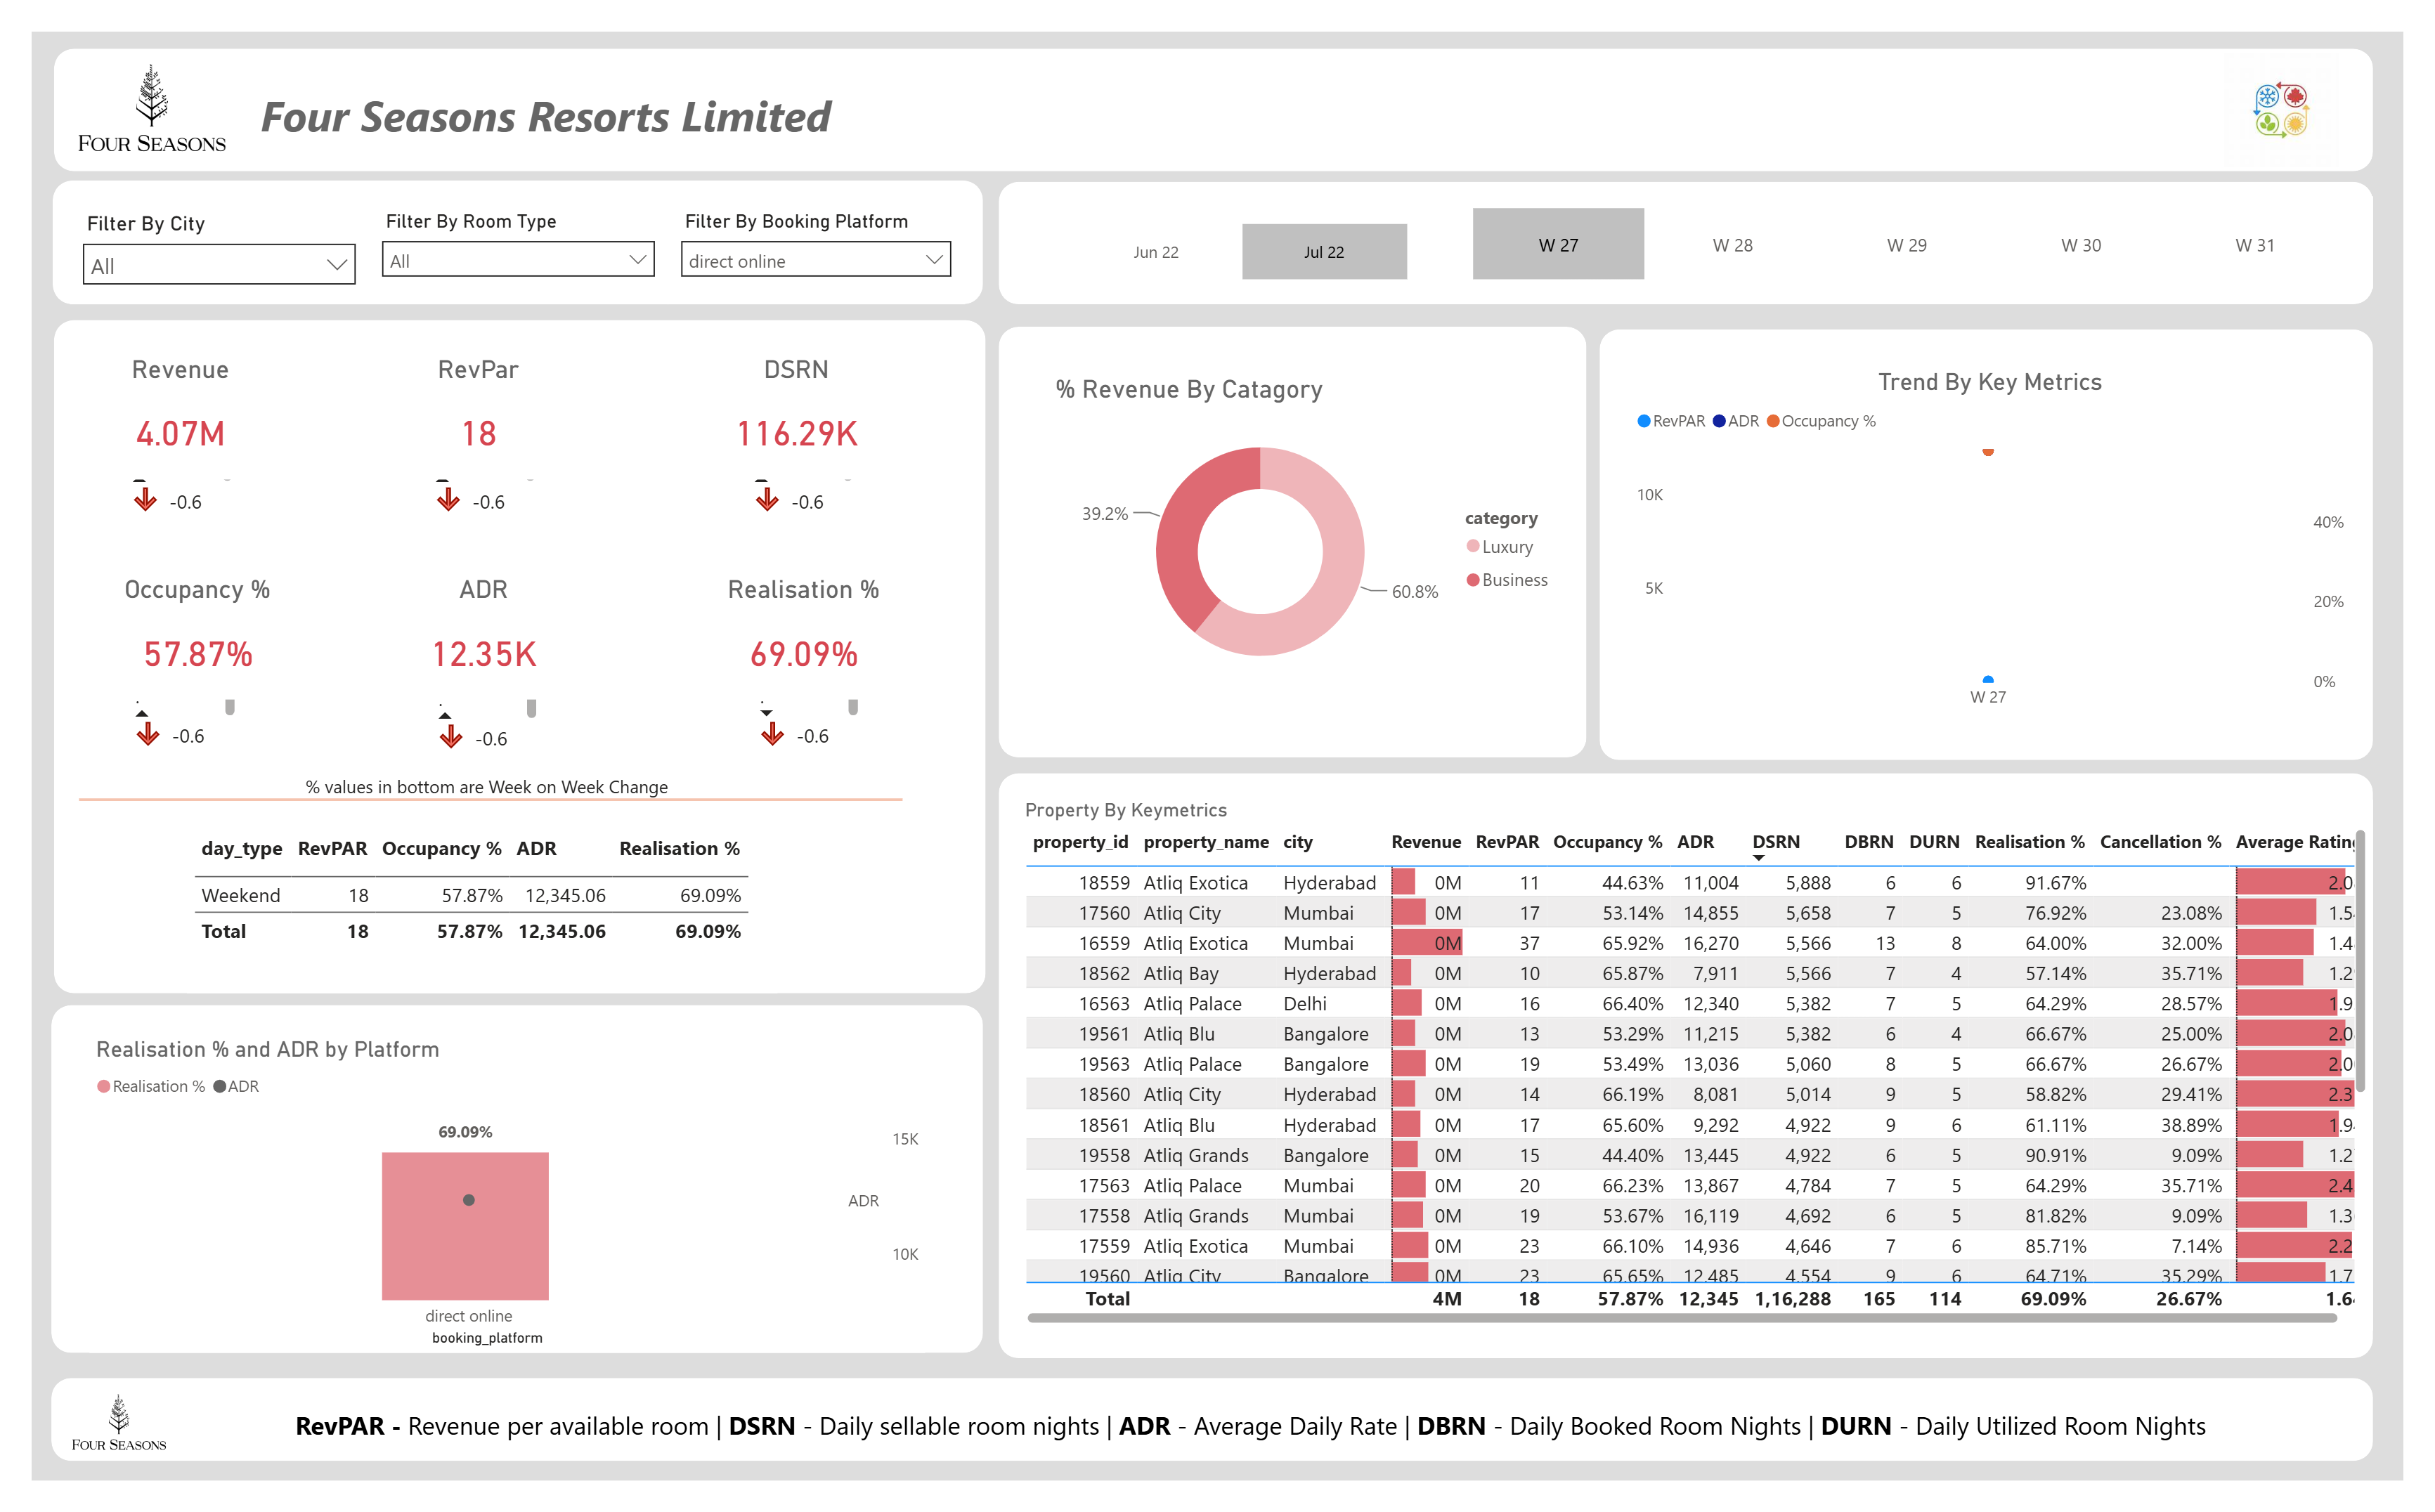

This screenshot's page, from the dashboard's own definition file:
{"tool":"powerbi","page":{"name":"Page 1","canvas":[1800,1100],"ordinal":0},"visuals":[{"type":"shape","box":[17.1,13.3,1759.9,93.1],"z":0},{"type":"tableEx","fields":{"Values":["key measures.Revenue WoW change %"]},"box":[541.6,490.4,91.2,58.9],"z":0,"group":"g3"},{"type":"tableEx","fields":{"Values":["key measures.Revenue WoW change %"]},"box":[298.4,492.3,91.2,58.9],"z":1000,"group":"g3"},{"type":"shape","box":[15.2,1022.5,1761.8,62.7],"z":1000},{"type":"tableEx","fields":{"Values":["key measures.Revenue WoW change %"]},"box":[68.4,490.4,91.2,58.9],"z":2000,"group":"g3"},{"type":"shape","box":[15.2,739.3,707,264.2],"z":2000},{"type":"tableEx","fields":{"Values":["key measures.Revenue WoW change %"]},"box":[537.8,311.7,91.2,58.9],"z":3000,"group":"g3"},{"type":"shape","box":[733.6,562.5,1043.4,444.7],"z":3000},{"type":"shape","box":[1189.7,226.2,587.3,326.9],"z":4000},{"type":"tableEx","fields":{"Values":["key measures.Revenue WoW change %"]},"box":[296.5,311.7,91.2,58.9],"z":4000,"group":"g3"},{"type":"shape","box":[733.6,224.3,446.6,326.9],"z":5000},{"type":"tableEx","fields":{"Values":["key measures.Revenue WoW change %"]},"box":[66.5,311.7,91.2,58.9],"z":5000,"group":"g3"},{"type":"shape","box":[17.1,218.6,707,511.2],"z":6000},{"type":"slicer","title":"Filter By City","fields":{"Values":["dim_hotels.city"]},"box":[29.3,131.1,227,76.3],"z":7000,"group":"g1"},{"type":"tableEx","title":"Property By Keymetrics","fields":{"Values":["dim_hotels.property_id","dim_hotels.property_name","dim_hotels.city","key measures.Revenue","key measures.RevPAR","key measures.Occupancy %","key measures.ADR","key measures.DSRN","key measures.DBRN","key measures.DURN","key measures.Realisation %","key measures.Cancellation %"]},"box":[748.8,583.5,1028.2,402.9],"z":7000},{"type":"slicer","title":"Filter By Room Type","fields":{"Values":["dim_rooms.room_class"]},"box":[256.3,131.1,227,76.3],"z":8000,"group":"g1"},{"type":"donutChart","title":"% Revenue By Catagory","fields":{"Category":["dim_hotels.category"],"Y":["Sum(fact_bookings.revenue_generated)"]},"box":[771.6,260.4,395.3,247.1],"z":8000},{"type":"slicer","fields":{"Values":["dim_date.mmm yy"]},"box":[765,125.2,303.3,70.4],"z":9000,"group":"g2"},{"type":"lineStackedColumnComboChart","title":"Realisation % and ADR by Platform","fields":{"Category":["fact_bookings.booking_platform"],"Y":["key measures.Realisation %"],"Y2":["key measures.ADR"]},"box":[43.7,762.1,634.8,241.4],"z":9000},{"type":"slicer","fields":{"Values":["dim_date.week no"]},"box":[1068.3,125.2,708.3,70.4],"z":10000,"group":"g2"},{"type":"lineChart","title":"Trend By Key Metrics","fields":{"Category":["dim_date.week no"],"Y":["key measures.RevPAR","key measures.ADR"],"Y2":["key measures.Occupancy %"]},"box":[1212.5,254.7,547.3,268],"z":10000},{"type":"card","title":"Revenue","fields":{"Values":["key measures.Revenue"]},"box":[36.1,245.2,153.9,95],"z":11000,"group":"g3"},{"type":"textbox","box":[190,1039.6,1503.3,45.6],"z":11000},{"type":"shape","box":[15.7,113.5,706.3,93.9],"z":12000},{"type":"group","id":"g1","title":"Group 1","box":[29.3,131.1,678.9,76.3],"z":13000},{"type":"card","title":"RevPar","fields":{"Values":["key measures.RevPAR"]},"box":[262.3,245.2,153.9,95],"z":13000,"group":"g3"},{"type":"shape","box":[733.6,114,1043.4,93.1],"z":14000},{"type":"card","title":"DSRN","fields":{"Values":["key measures.DSRN"]},"box":[503.6,245.2,153.9,95],"z":14000,"group":"g3"},{"type":"group","id":"g2","title":"Group 2","box":[765,125.2,1011.5,70.4],"z":15000},{"type":"card","title":"Occupancy %","fields":{"Values":["key measures.Occupancy %"]},"box":[49.4,412.4,153.9,95],"z":15000,"group":"g3"},{"type":"group","id":"g3","title":"Group 3","box":[36.1,245.2,627.2,306],"z":16000},{"type":"card","title":"ADR","fields":{"Values":["key measures.ADR"]},"box":[266.1,412.4,153.9,95],"z":16000,"group":"g3"},{"type":"card","title":"Realisation %","fields":{"Values":["key measures.Realisation %"]},"box":[509.3,412.4,153.9,95],"z":17000,"group":"g3"},{"type":"group","id":"g4","title":"Group 4","box":[36.1,558.7,625.3,171],"z":17000},{"type":"image","box":[28.5,11.4,125.4,93.1],"z":18000},{"type":"slicer","title":"Filter By Room Type","fields":{"Values":["fact_bookings.booking_platform"]},"box":[483.2,131.1,225,76.3],"z":18000,"group":"g1"},{"type":"textbox","box":[159.6,36.1,513.1,68.4],"z":19000},{"type":"image","box":[24.7,1024.4,83.6,62.7],"z":20000},{"type":"image","box":[1638.2,11.4,138.7,96.9],"z":21000},{"type":"textbox","box":[203.3,558.7,315.5,41.8],"z":22000,"group":"g4"},{"type":"shape","box":[36.1,564.4,625.3,36.1],"z":23000,"group":"g4"},{"type":"tableEx","fields":{"Values":["dim_date.day_type","key measures.RevPAR","key measures.Occupancy %","key measures.ADR","key measures.Realisation %"]},"box":[117.8,600.5,448.5,129.2],"z":24000,"group":"g4"}]}

Visuals, with their boxes in screenshot pixels (x1, y1, x2, y2), scaled from the page's 1800x1100 canvas onto the 2435x1512 screenshot:
shape: locate(23, 18, 2404, 146)
tableEx - key measures.Revenue WoW change %: locate(733, 674, 856, 755)
tableEx - key measures.Revenue WoW change %: locate(403, 677, 527, 757)
shape: locate(20, 1405, 2404, 1492)
tableEx - key measures.Revenue WoW change %: locate(93, 674, 216, 755)
shape: locate(20, 1016, 977, 1379)
tableEx - key measures.Revenue WoW change %: locate(727, 429, 851, 509)
shape: locate(992, 773, 2404, 1384)
shape: locate(1609, 311, 2404, 760)
tableEx - key measures.Revenue WoW change %: locate(401, 429, 524, 509)
shape: locate(992, 308, 1597, 757)
tableEx - key measures.Revenue WoW change %: locate(90, 429, 214, 509)
shape: locate(23, 301, 980, 1003)
"Filter By City" slicer: locate(39, 180, 346, 285)
"Property By Keymetrics" tableEx: locate(1013, 802, 2404, 1356)
"Filter By Room Type" slicer: locate(346, 180, 654, 285)
"% Revenue By Catagory" donutChart: locate(1044, 358, 1578, 698)
slicer - dim_date.mmm yy: locate(1035, 172, 1445, 269)
"Realisation % and ADR by Platform" lineStackedColumnComboChart: locate(59, 1048, 918, 1379)
slicer - dim_date.week no: locate(1445, 172, 2403, 269)
"Trend By Key Metrics" lineChart: locate(1640, 350, 2381, 719)
"Revenue" card: locate(48, 337, 257, 468)
textbox: locate(257, 1429, 2291, 1492)
shape: locate(21, 156, 977, 285)
"Group 1" group: locate(39, 180, 958, 285)
"RevPar" card: locate(355, 337, 563, 468)
shape: locate(992, 157, 2404, 285)
"DSRN" card: locate(681, 337, 890, 468)
"Group 2" group: locate(1035, 172, 2403, 269)
"Occupancy %" card: locate(67, 567, 275, 698)
"Group 3" group: locate(48, 337, 897, 757)
"ADR" card: locate(360, 567, 568, 698)
"Realisation %" card: locate(689, 567, 897, 698)
"Group 4" group: locate(48, 768, 895, 1003)
image: locate(39, 15, 208, 143)
"Filter By Room Type" slicer: locate(654, 180, 958, 285)
textbox: locate(216, 50, 910, 143)
image: locate(34, 1408, 146, 1494)
image: locate(2216, 15, 2404, 149)
textbox: locate(275, 768, 702, 826)
shape: locate(48, 776, 895, 826)
tableEx - dim_date.day_type x key measures.RevPAR: locate(160, 826, 766, 1003)
